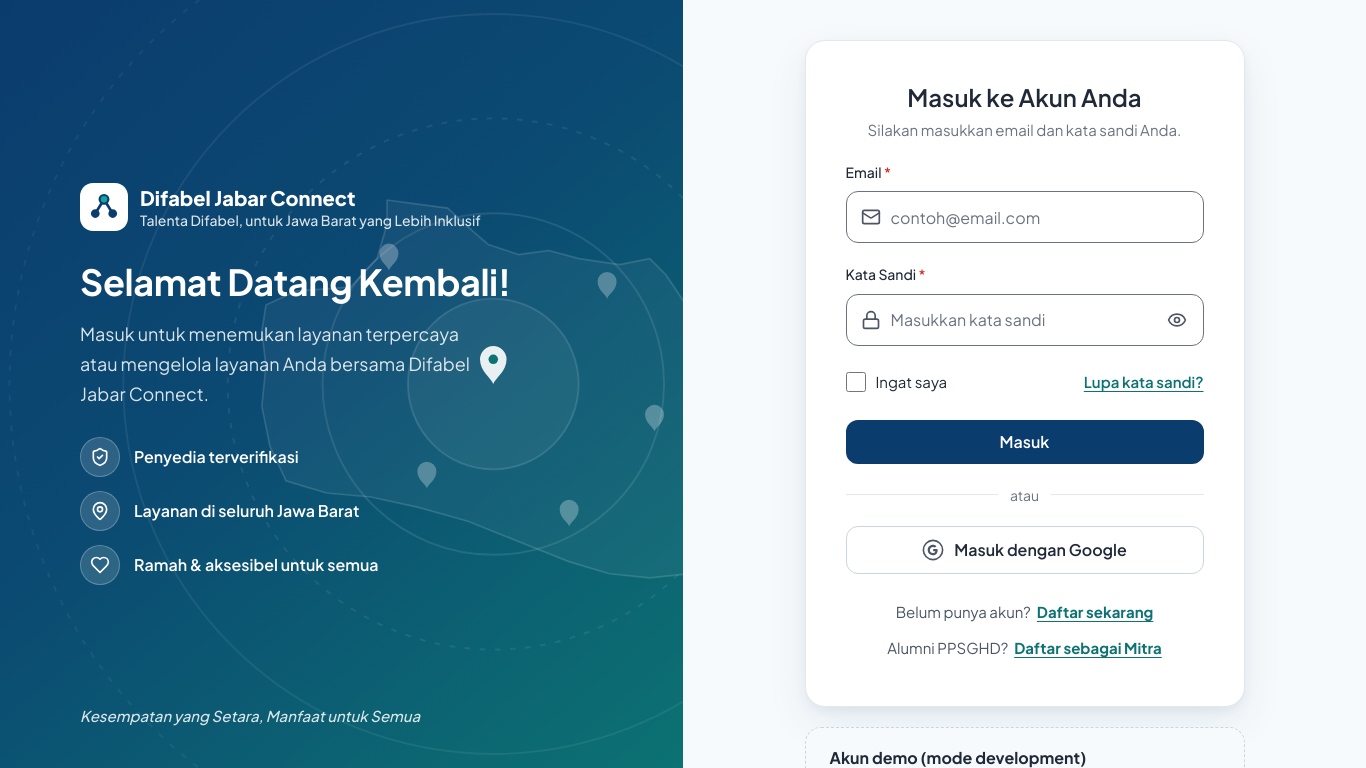
it: Masuk dengan Google › membuka popup Google, mengirim code ke backend, lalu masuk sesuai peran
The width and height of the screenshot is (1366, 768).
Click the button "Masuk dengan Google": click(1024, 550) [846,526,1204,574]
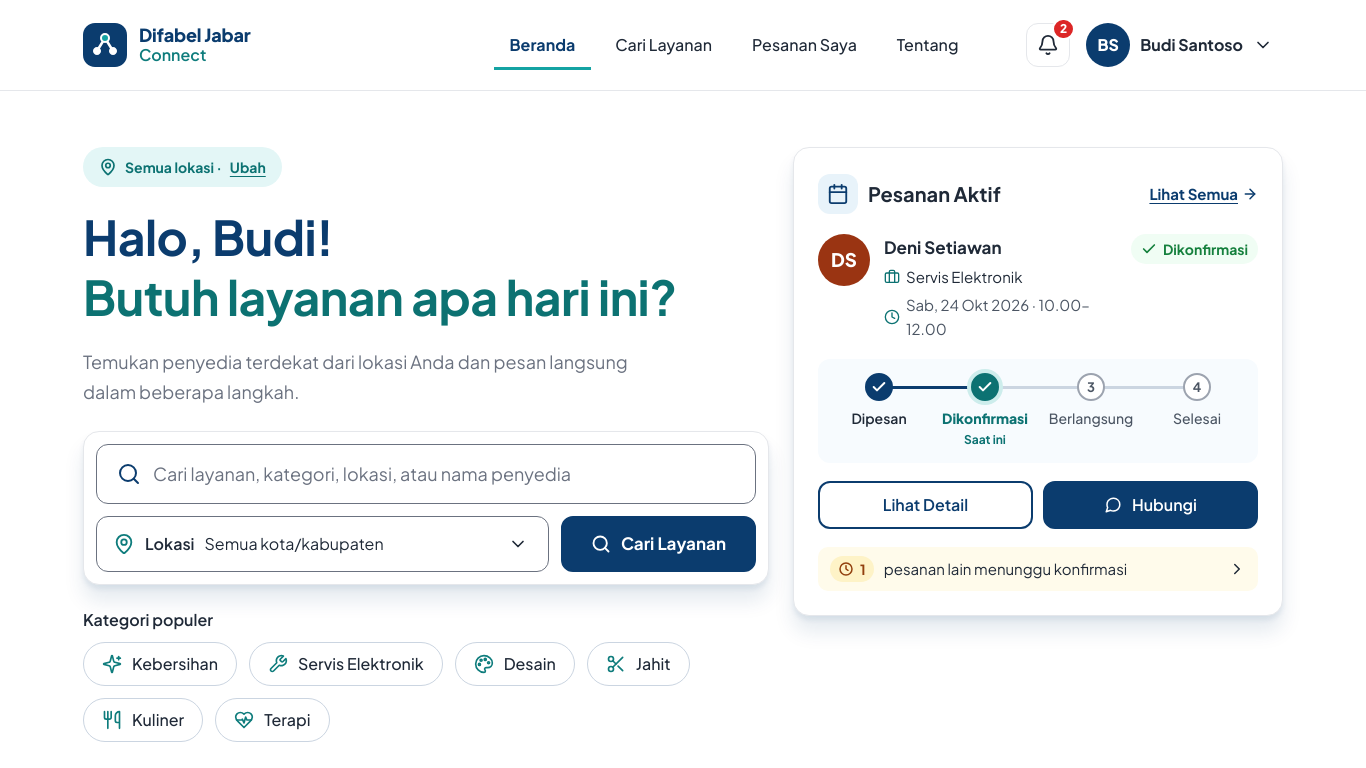
Check: the heading "Halo, Budi! Butuh layanan apa hari ini?" is shown, box [83,207,763,327]
